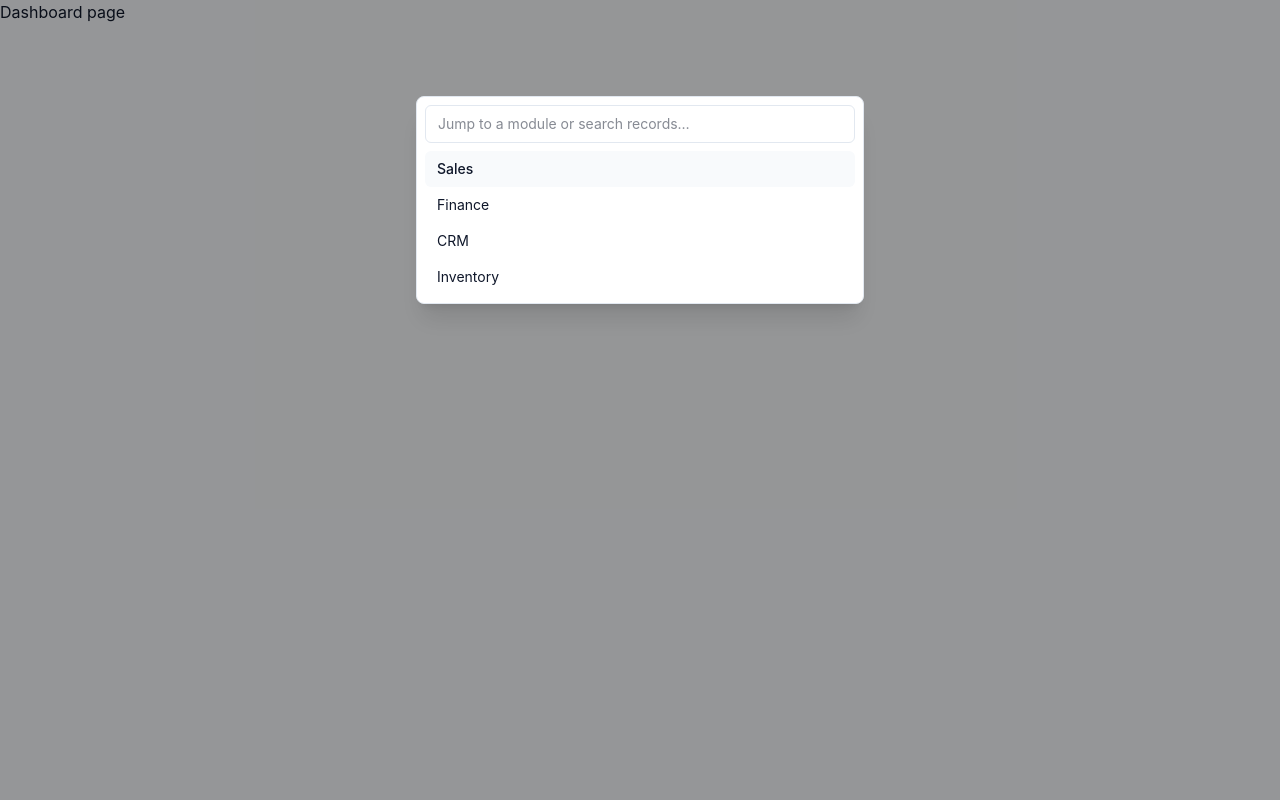
Scenario: CommandPalette › navigates to the highlighted module and closes on Enter
Type "fin" into the dropdown at [640, 124], box left=425, top=105, right=855, bottom=143
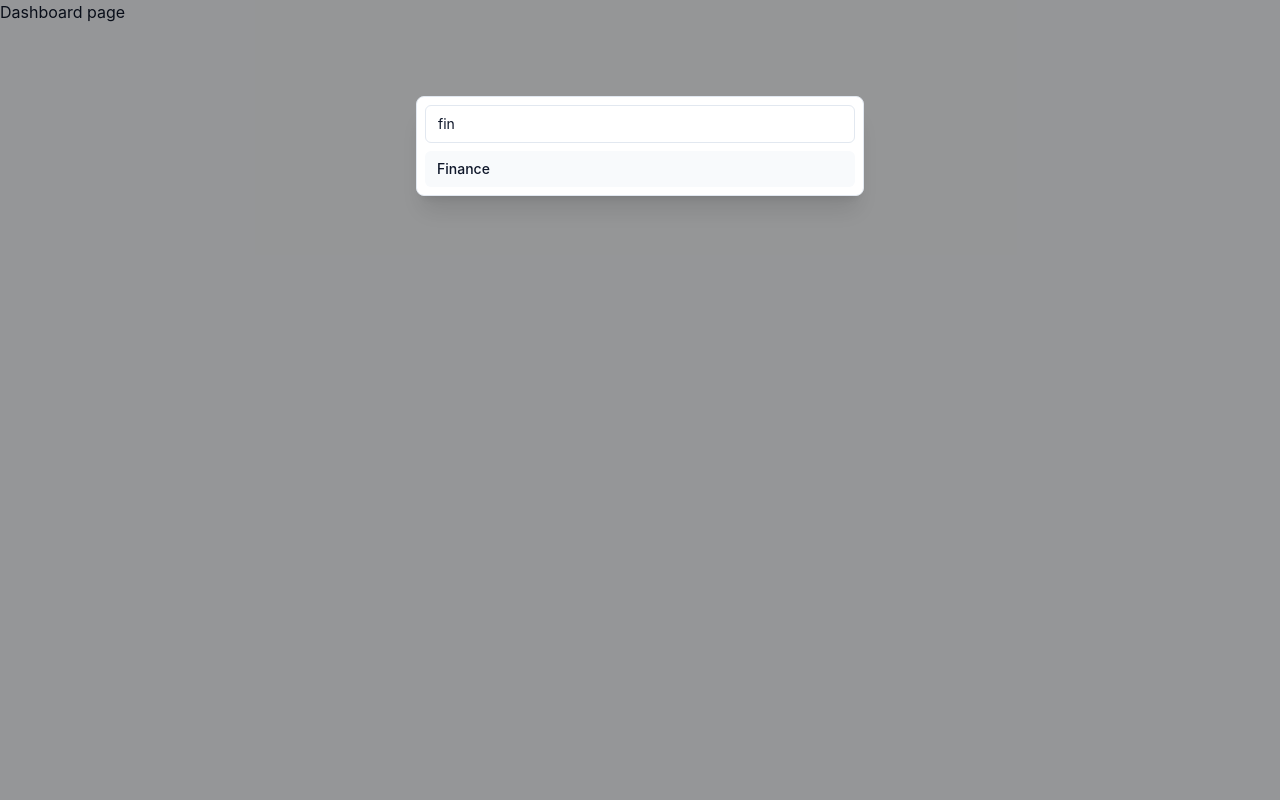
Press Enter
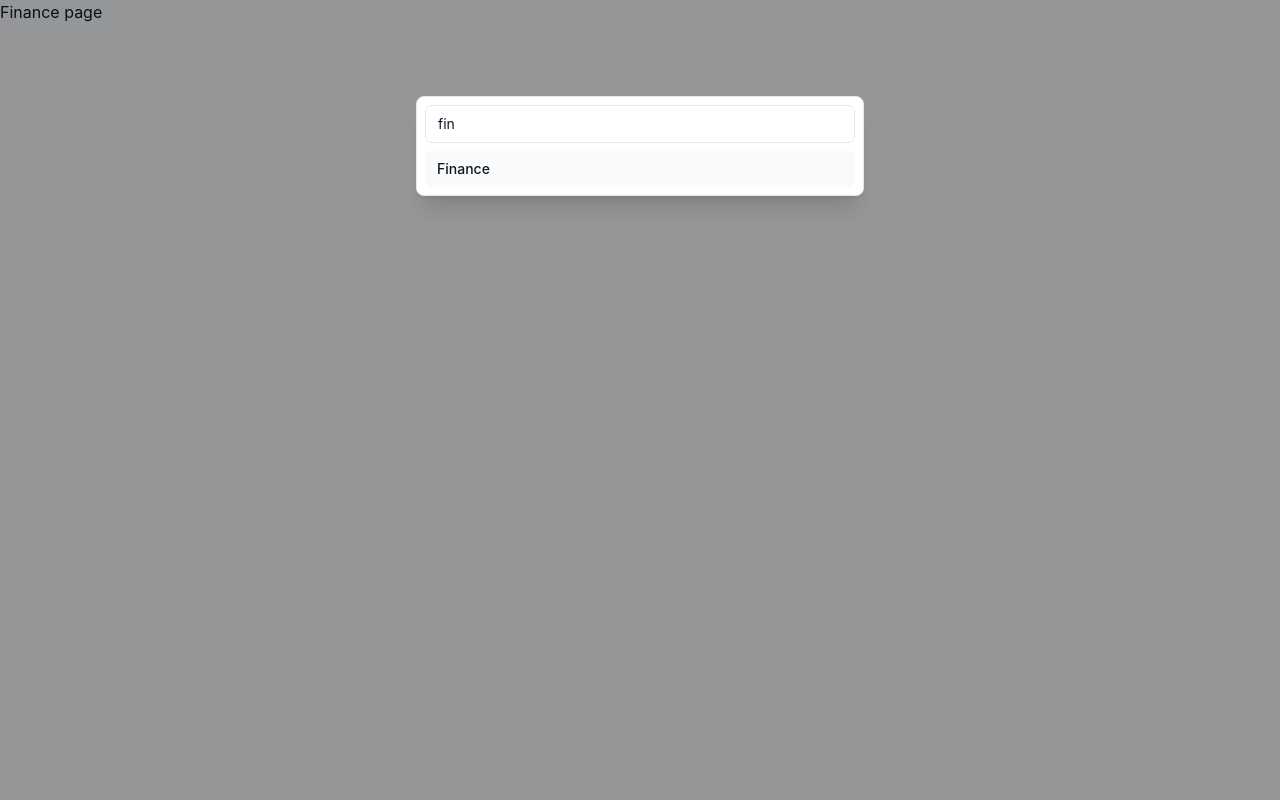
Expected: the text "Finance page" is shown, left=0, top=2, right=102, bottom=22
